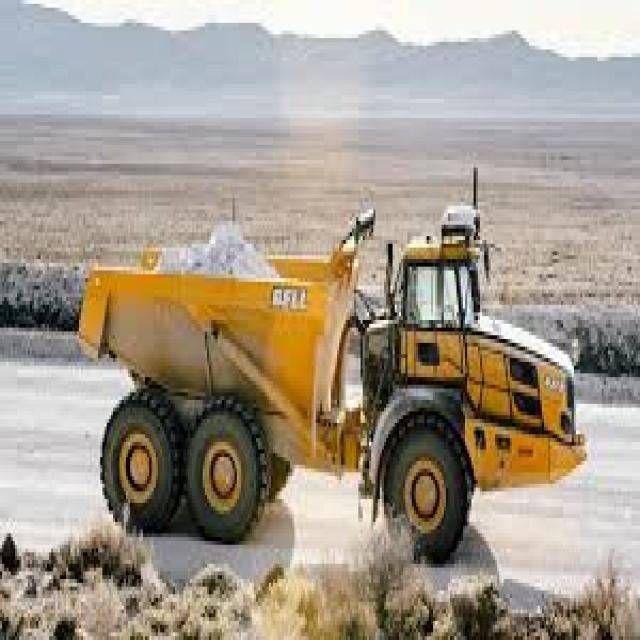dump_truck: (64, 148, 599, 583)
